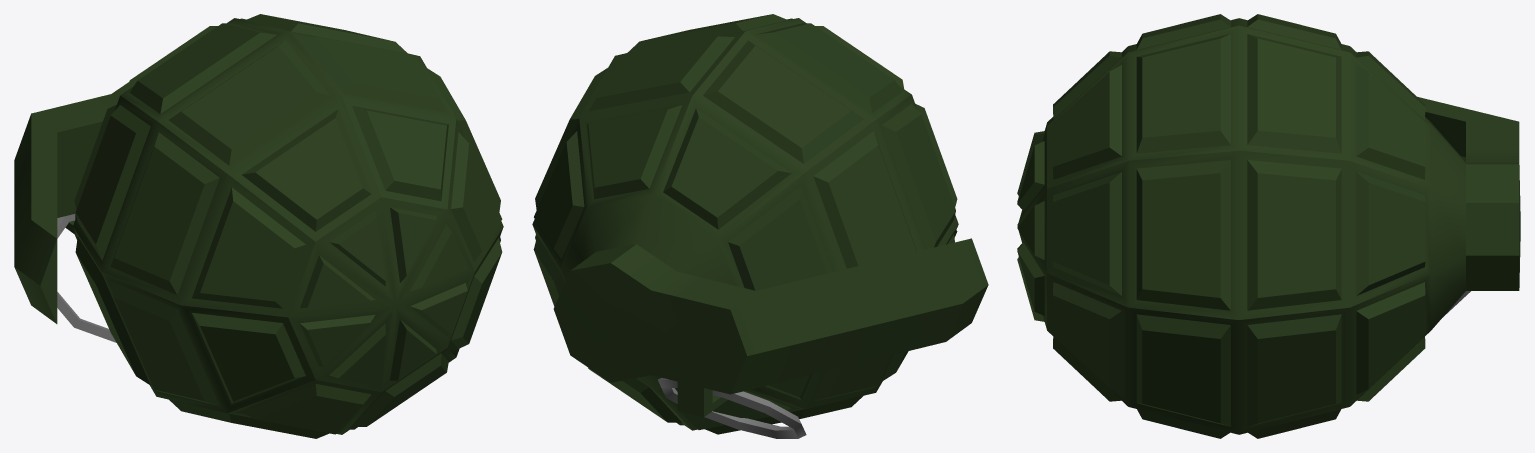
Rendered from Granade.fbx.
3 renders of one model, left to right at view 1: azimuth 30°, elevation 25°; view 2: azimuth 150°, elevation 25°; view 3: azimuth 270°, elevation 25°, orthographic. The views are drawn at different scales.
Parts seen in each view (by area): view 1: Granade, Ring; view 2: Granade, Ring; view 3: Granade.
Boxes of the visible parts, bbox=[...] form: Granade: bbox=[14, 14, 503, 438]; Ring: bbox=[57, 214, 116, 342]; Granade: bbox=[532, 14, 988, 434]; Ring: bbox=[658, 378, 806, 438]; Granade: bbox=[1017, 14, 1520, 438].
Size of the model in its own units: 1324 by 1140 by 1295.
